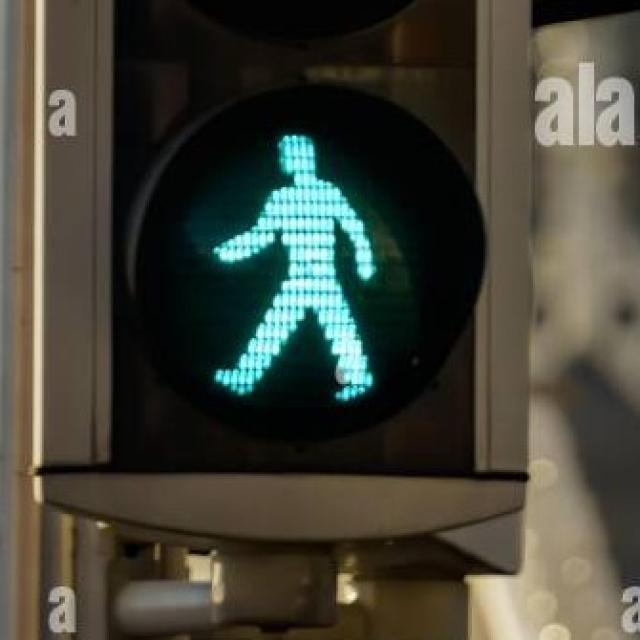green-light: (205, 108, 391, 414)
